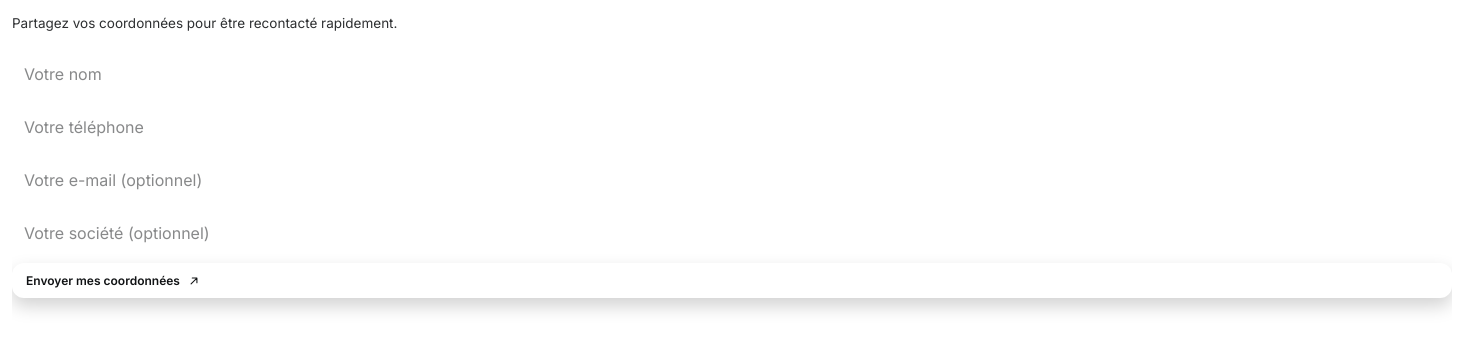
Test: RappelView › affiche le message d'erreur précis retourné par le serveur
Type "Moussa Diop" into the field named "nom" at coordinates (732, 75), box [12,52,1452,97]
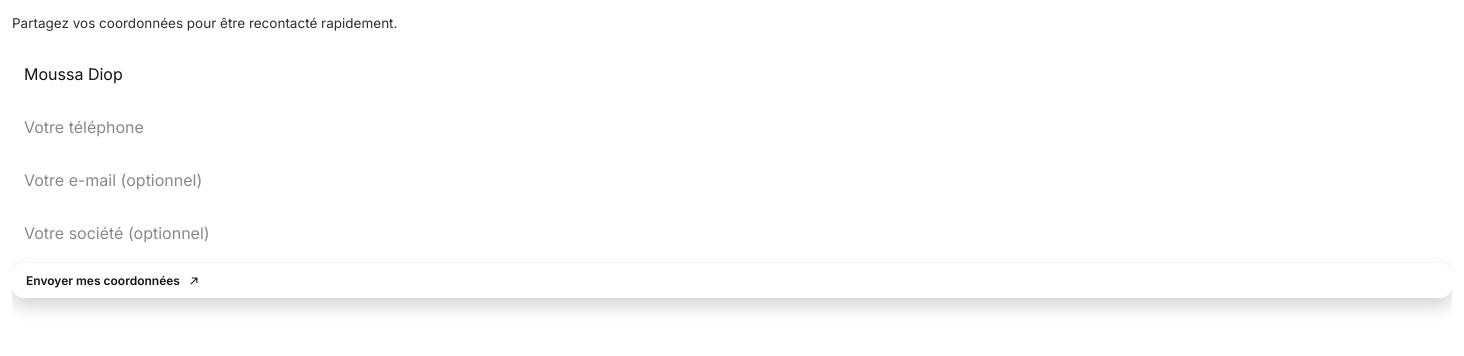
Type "+221 77 123 45 67" into the field named "telephone" at coordinates (732, 128), box [12,105,1452,150]
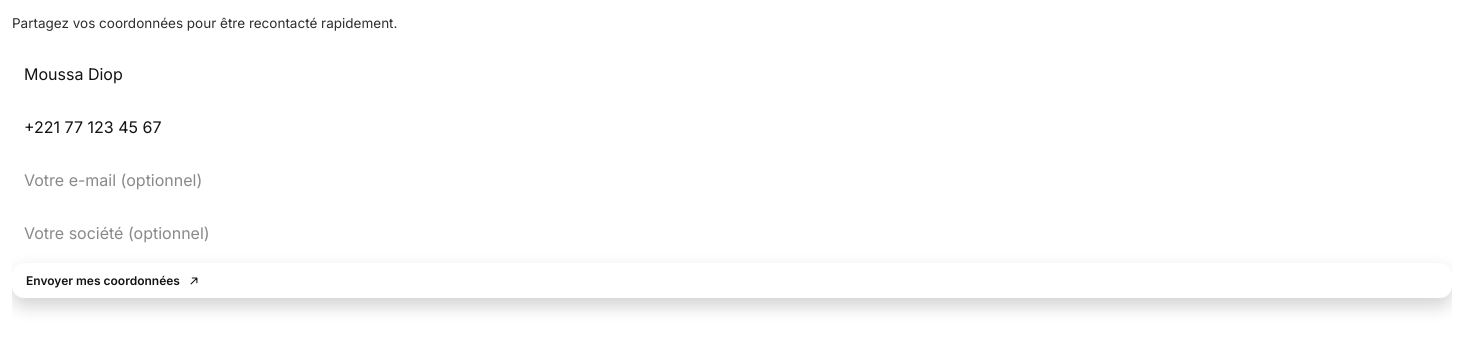
Submit the form
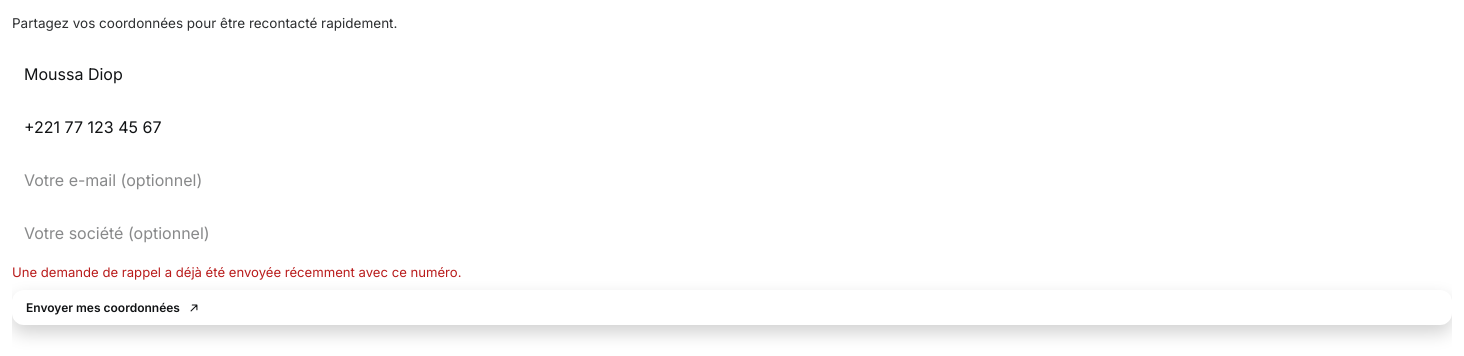
Now the message "Une demande de rappel a déjà été envoyée récemment avec ce numéro." is shown, box [12,264,462,280]
